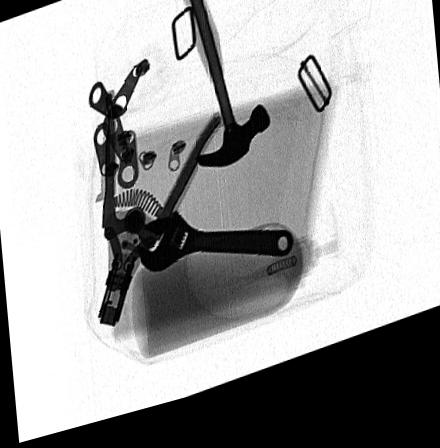Hammer: (174, 0, 271, 181)
Pliers: (93, 93, 220, 341)
Wrench: (134, 220, 292, 284)
